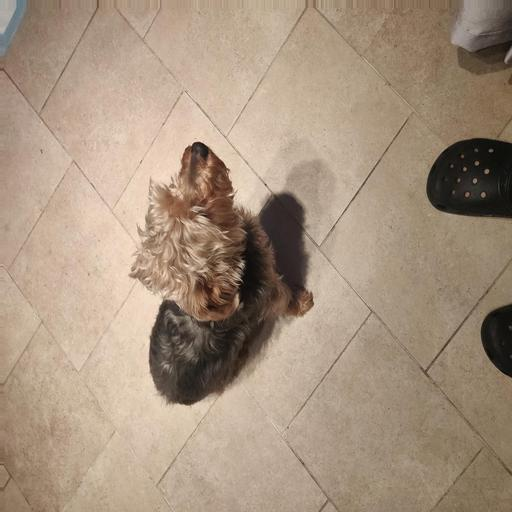dog: (90, 142, 356, 408)
